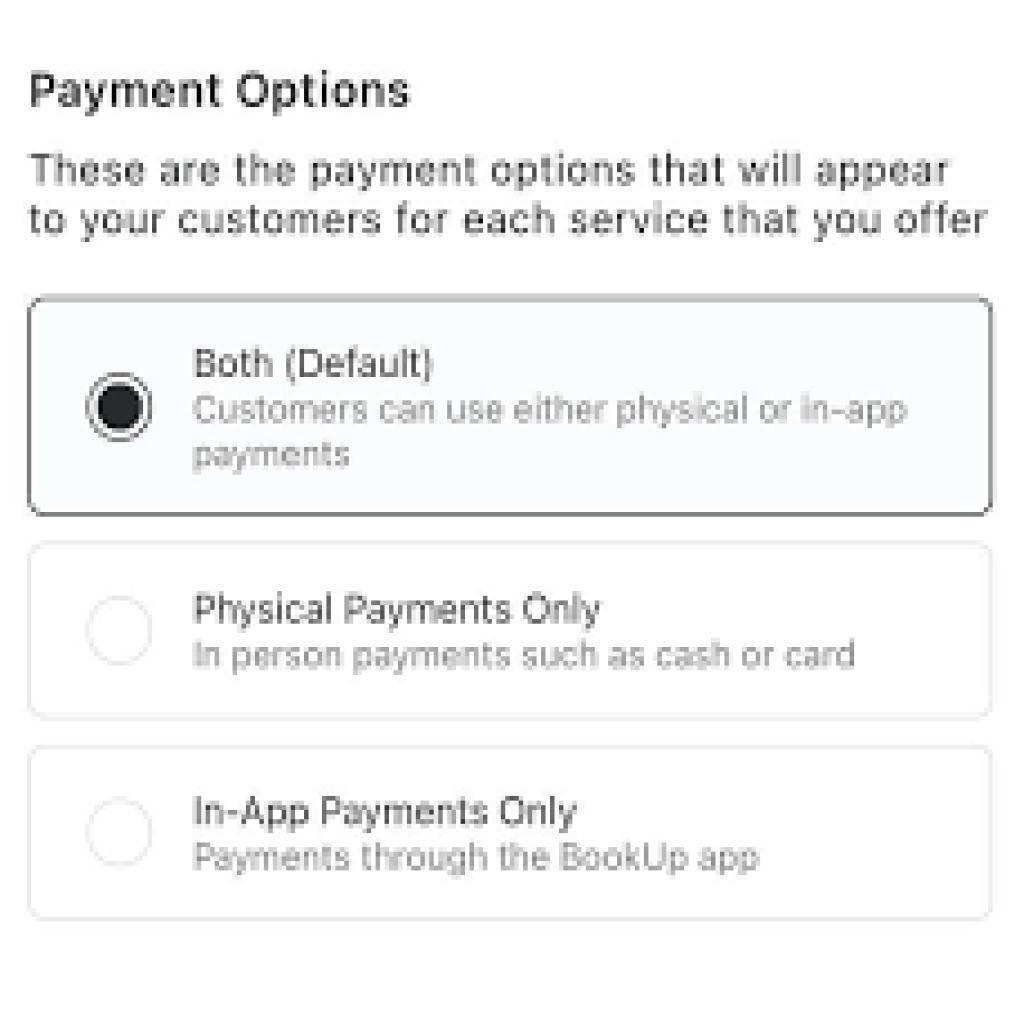radio: (82, 367, 157, 447), (82, 794, 156, 871), (84, 594, 156, 670)
